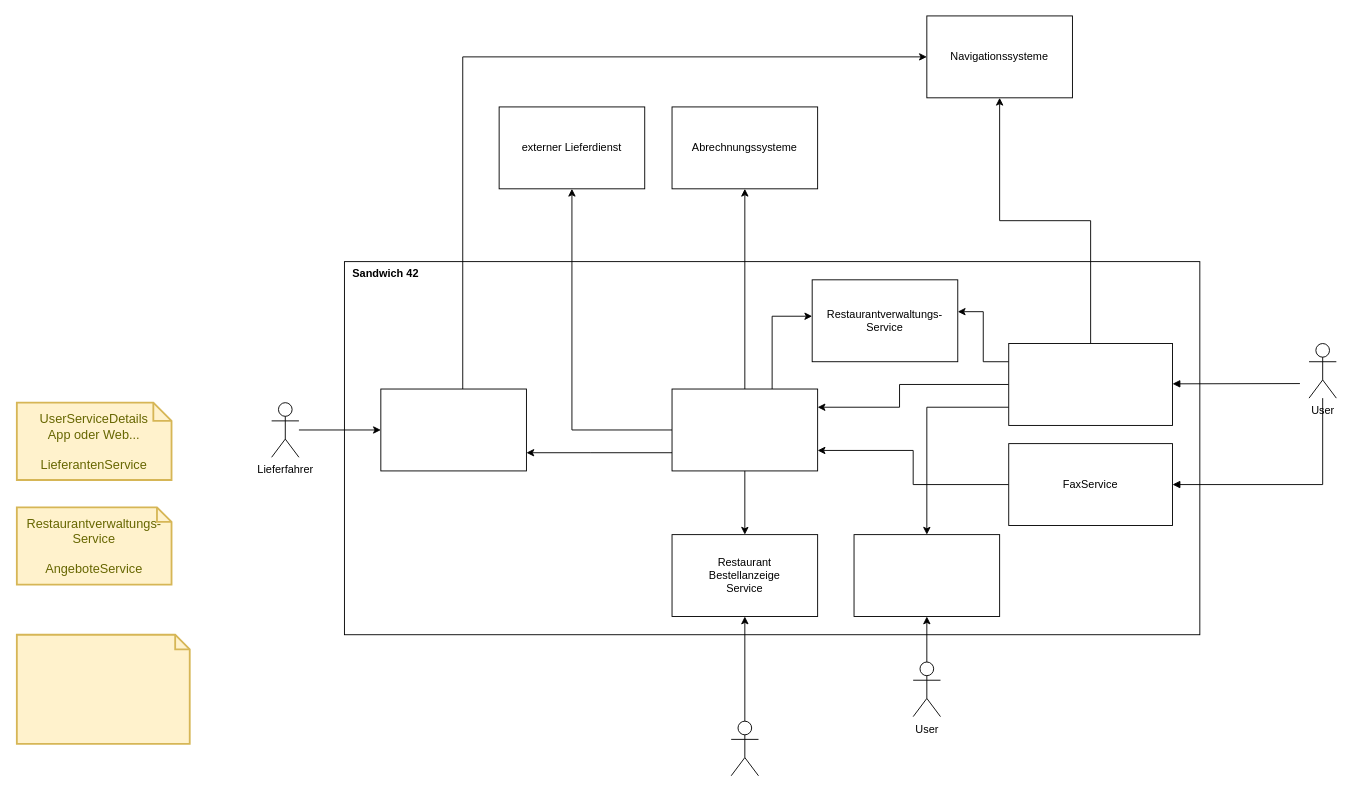
Image size: 1352x811. Some labels were removed from this diagram. The shapes that lost their labels are listed below. From the top down, each one's centre as x and y in pixels, then its label:
[1090,384]: UserService
[453,429]: LieferantenService
[744,429]: Bestellverwaltungs Service
[926,575]: AngeboteService
[102,688]: Restaurant Bestellanzeige Service Bestellverwaltungs Service
[744,748]: Restaurant
